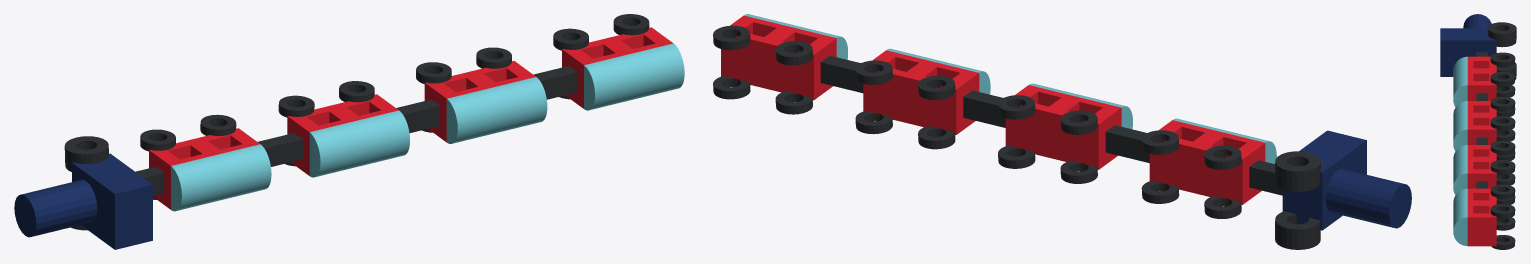
Rendered from tinker.obj.
3 renders of one model, left to right at view 1: azimuth 30°, elevation 25°; view 2: azimuth 150°, elevation 25°; view 3: azimuth 270°, elevation 25°, orthographic. The views are drawn at different scales.
Parts seen in each view (by area): view 1: group_0_7720667, group_0_2829873, group_0_15277357, group_0_1650274; view 2: group_0_15277357, group_0_2829873, group_0_1650274, group_0_7720667; view 3: group_0_2829873, group_0_15277357, group_0_7720667, group_0_1650274.
Boxes of the visible parts, x1,y1,x2,y2 form: group_0_7720667: (171,43,684,211); group_0_2829873: (64,14,649,230); group_0_15277357: (149,27,673,209); group_0_1650274: (14,153,152,249); group_0_15277357: (721,15,1265,204); group_0_2829873: (713,25,1320,249); group_0_1650274: (1282,130,1411,230); group_0_7720667: (744,14,1276,163); group_0_2829873: (1476,22,1516,249); group_0_15277357: (1467,56,1496,246); group_0_7720667: (1453,56,1467,246); group_0_1650274: (1440,14,1496,76).
Bounding box in the file's own units: 336 × 38.49 × 53.
